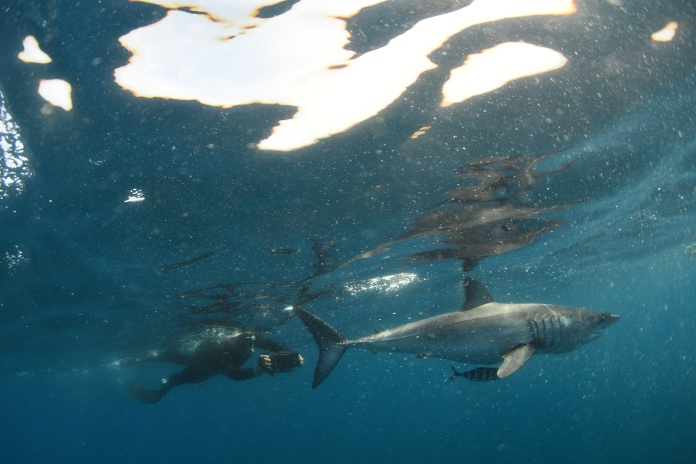Mako: (293, 270, 642, 400)
